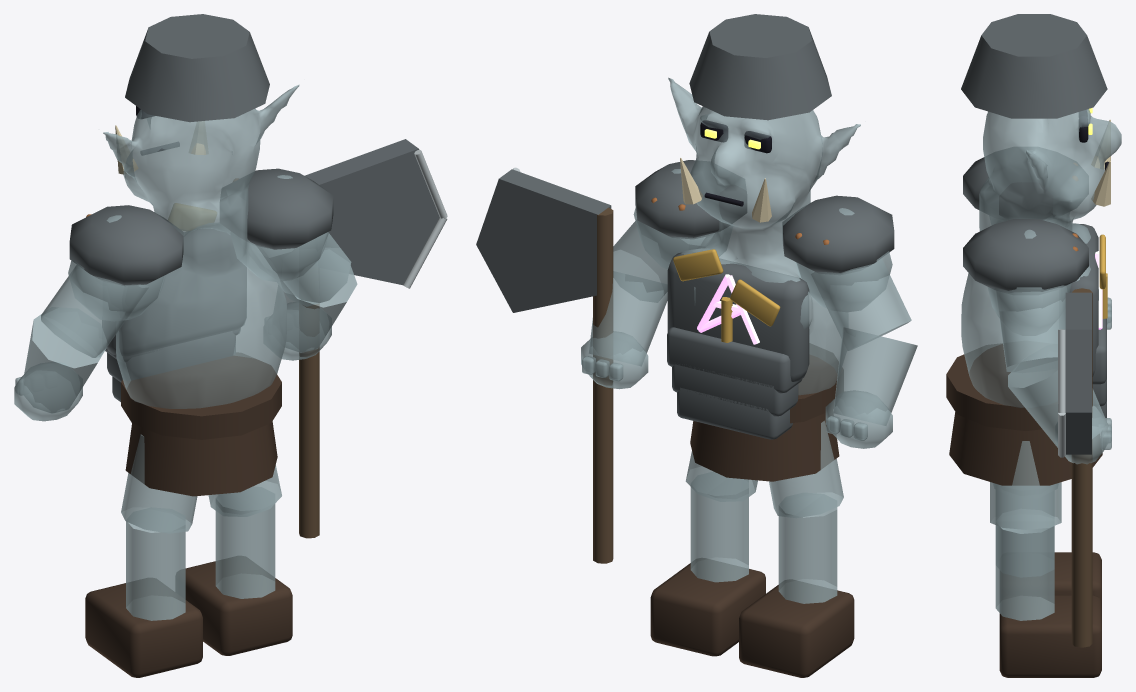
File: host_36-wraith.glb
The picture shows the model from 3 angles, left to right: view 1: azimuth 30°, elevation 25°; view 2: azimuth 150°, elevation 25°; view 3: azimuth 270°, elevation 25°; orthographic projection.
Parts seen in each view (by area): view 1: mesh_Iron.044, mesh_Skin.055_physicalImmune.002, mesh_Leather.002, mesh_Skin.055_physicalImmune.003, mesh_Skin.055_physicalImmune, mesh_Skin.055_physicalImmune.004, mesh_Leather.055, mesh_Skin.055_physicalImmune.001, mesh_Leather.001, mesh_Wood.035, mesh_Silver.013; view 2: mesh_Iron.044, mesh_Skin.055_physicalImmune.002, mesh_Skin.055_physicalImmune.003, mesh_Skin.055_physicalImmune.004, mesh_Leather.002, mesh_Skin.055_physicalImmune, mesh_Leather.055, mesh_Leather.001, mesh_Skin.055_physicalImmune.001, mesh_Wood.035, mesh_Gold.006, mesh_Rune.025 (+2 smaller); view 3: mesh_Iron.044, mesh_Skin.055_physicalImmune.002, mesh_Leather.002, mesh_Skin.055_physicalImmune.001, mesh_Skin.055_physicalImmune.004, mesh_Leather.001, mesh_Wood.035, mesh_Leather.055, mesh_Silver.013, mesh_Bone.052, mesh_Gold.006, mesh_Dark.055 (+1 smaller).
Part boxes in pixels (x1,y1,x2,y2): mesh_Iron.044: (69,14,439,401); mesh_Skin.055_physicalImmune.002: (103,84,299,408); mesh_Leather.002: (121,355,281,496); mesh_Skin.055_physicalImmune.003: (14,215,165,421); mesh_Skin.055_physicalImmune: (121,434,197,620); mesh_Skin.055_physicalImmune.004: (230,175,357,360); mesh_Leather.055: (85,583,202,677); mesh_Skin.055_physicalImmune.001: (208,465,281,598); mesh_Leather.001: (185,561,292,655); mesh_Wood.035: (299,303,319,538); mesh_Silver.013: (403,150,447,288); mesh_Iron.044: (476,14,894,439); mesh_Skin.055_physicalImmune.002: (668,77,860,395); mesh_Skin.055_physicalImmune.003: (795,208,917,448); mesh_Skin.055_physicalImmune.004: (581,169,732,389); mesh_Leather.002: (690,354,839,481); mesh_Skin.055_physicalImmune: (769,421,843,603); mesh_Leather.055: (739,585,854,677); mesh_Leather.001: (650,563,765,656); mesh_Skin.055_physicalImmune.001: (685,451,757,582); mesh_Wood.035: (593,207,613,563); mesh_Gold.006: (673,249,780,342); mesh_Rune.025: (697,274,759,344); mesh_Iron.044: (961,14,1107,454); mesh_Skin.055_physicalImmune.002: (961,109,1121,407); mesh_Leather.002: (946,344,1102,485); mesh_Skin.055_physicalImmune.001: (990,441,1061,620); mesh_Skin.055_physicalImmune.004: (987,229,1111,464); mesh_Leather.001: (999,595,1101,677); mesh_Wood.035: (1071,288,1092,647); mesh_Leather.055: (1054,552,1101,602); mesh_Silver.013: (1058,329,1065,457); mesh_Bone.052: (1091,119,1110,206); mesh_Gold.006: (1099,234,1107,318); mesh_Dark.055: (1079,110,1108,170).
Size of the model in its own units: 1.55 by 2.15 by 0.5619.
